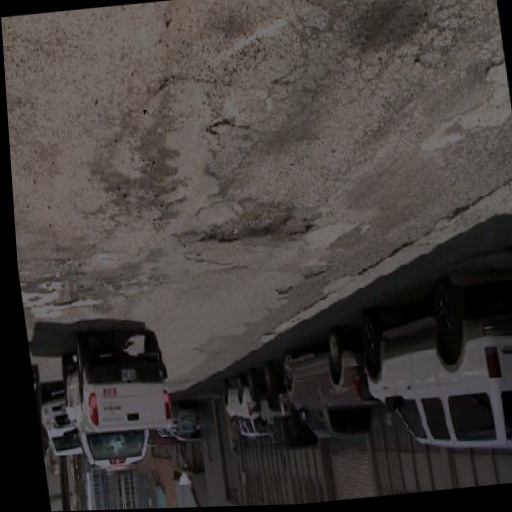pothole: (196, 206, 295, 253), (287, 214, 318, 241), (48, 296, 84, 316)
